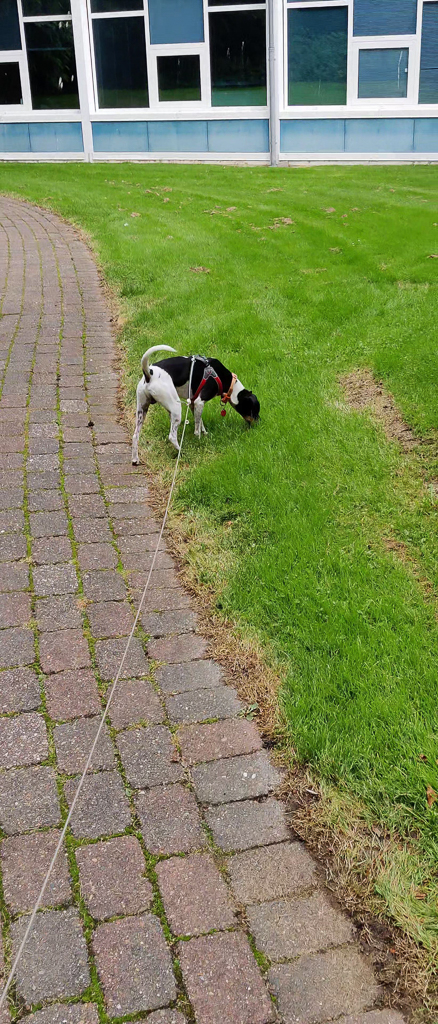Dog: (113, 335, 274, 473)
